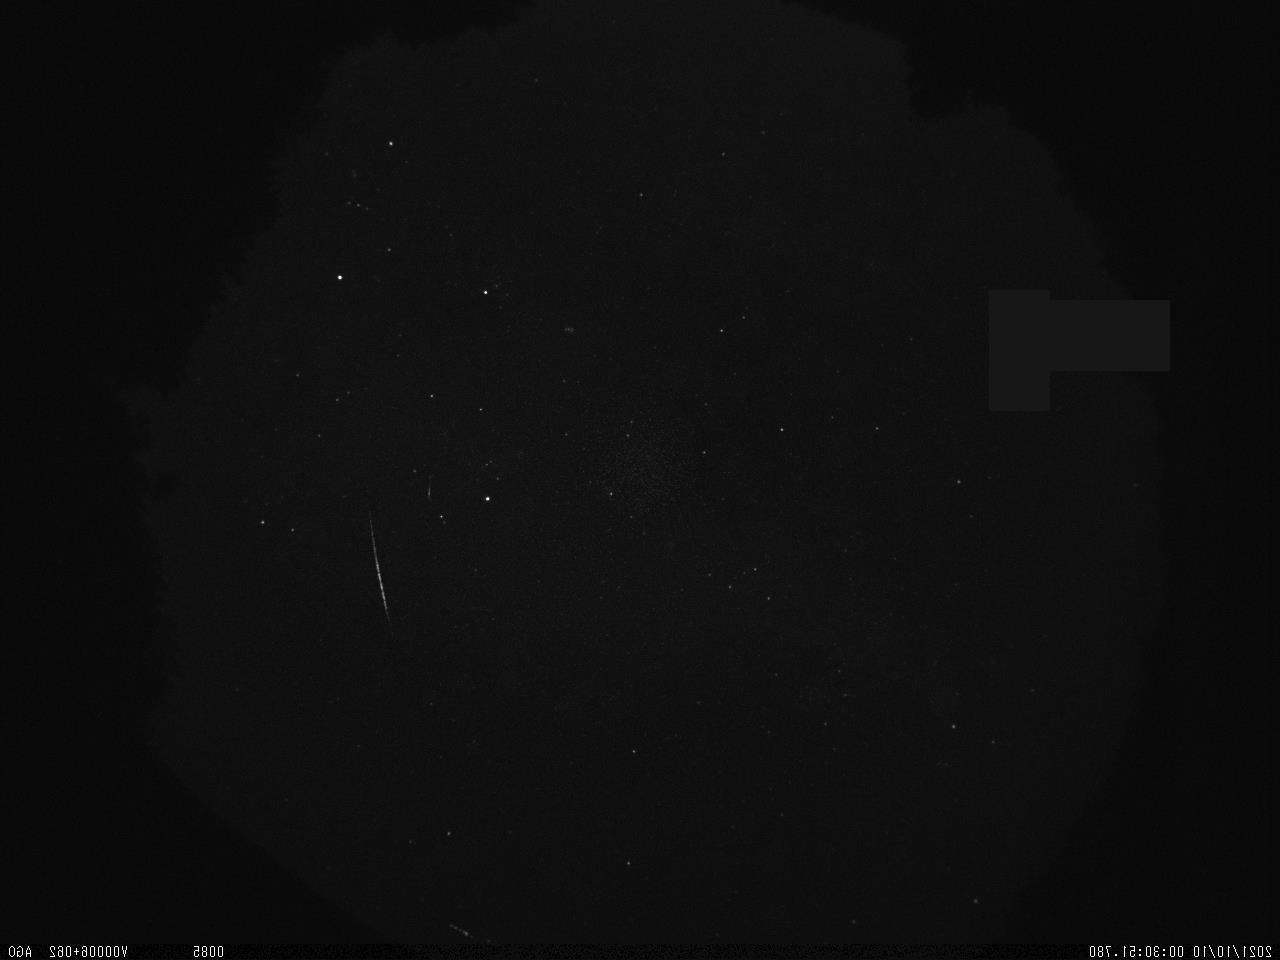meteor: (351, 511, 404, 633)
